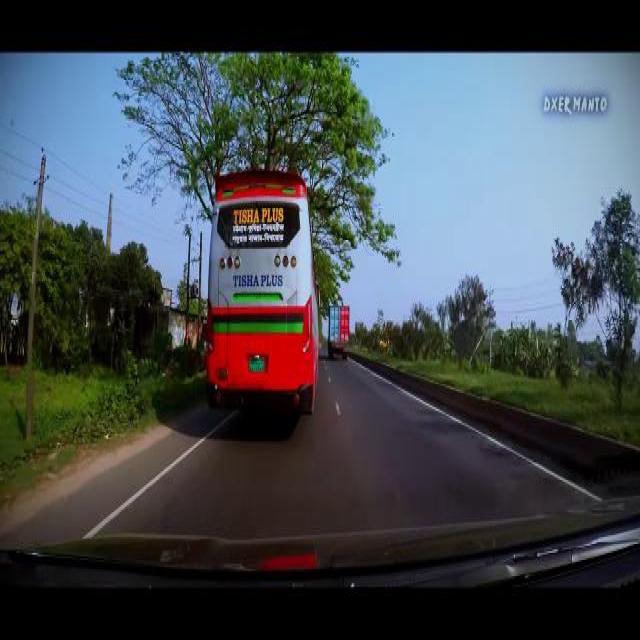18: (326, 302, 348, 356)
Truck: (205, 168, 319, 412)
